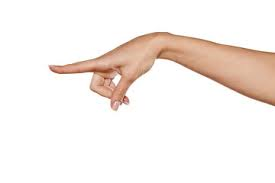hand: (43, 27, 169, 120)
